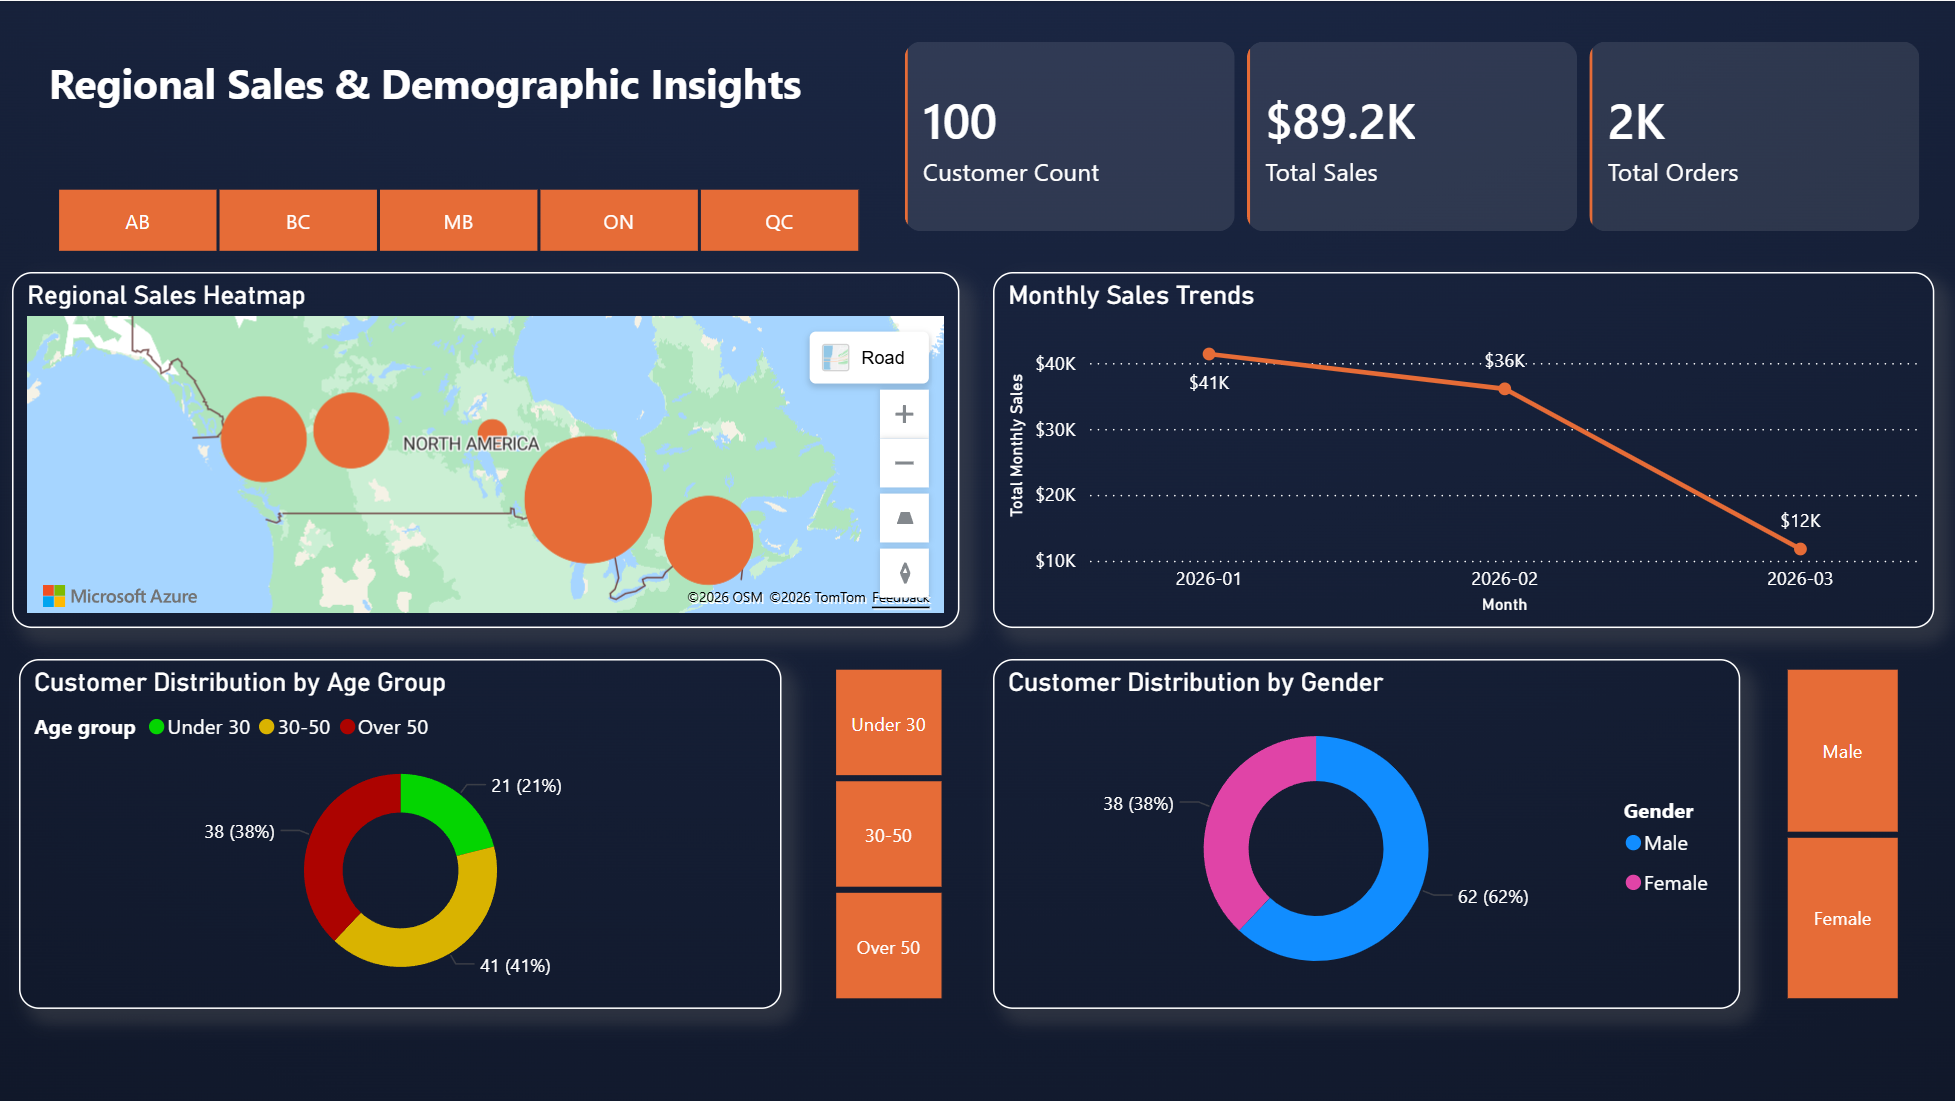

This screenshot's page, from the dashboard's own definition file:
{"tool":"powerbi","page":{"name":"Page 1","canvas":[1280,720],"ordinal":0},"visuals":[{"type":"lineChart","title":"Monthly Sales Trends","fields":{"Category":["vw_monthly_sales_trend.sales_month"],"Y":["Sum(vw_monthly_sales_trend.monthly_sales)"]},"box":[650.5,177.3,615.8,233],"z":0},{"type":"donutChart","title":"Customer Distribution by Age Group","fields":{"Category":["vw_customer_demographics.age_group"],"Y":["CountNonNull(vw_customer_demographics.customer_id)"]},"box":[13.1,430.6,499.3,229],"z":1000},{"type":"donutChart","title":"Customer Distribution by Gender","fields":{"Y":["CountNonNull(vw_customer_demographics.customer_id)"],"Category":["vw_customer_demographics.gender"]},"box":[650.5,430.6,488.8,229],"z":2000},{"type":"slicer","fields":{"Values":["vw_customer_demographics.gender"]},"box":[1144.5,430.6,121.7,229],"z":3000},{"type":"slicer","fields":{"Values":["vw_customer_demographics.age_group"]},"box":[526.8,430.6,108.6,229],"z":4000},{"type":"azureMap","title":"Regional Sales Heatmap","fields":{"Category":["vw_sales_by_region.Location"],"Size":["Sum(vw_sales_by_region.total_sales)"]},"box":[13.1,177.3,615.8,233],"z":5000},{"type":"cardVisual","fields":{"Data":["CountNonNull(vw_customer_demographics.customer_id)","Sum(vw_sales_by_region.total_sales)","CountNonNull(Transactions.txn_id)"]},"box":[585.7,19.6,680.6,138.1],"z":6000},{"type":"textbox","box":[27.5,30.1,543.8,49.7],"z":6001},{"type":"slicer","fields":{"Values":["vw_sales_by_region.region"]},"box":[18.3,116.5,562.8,54.3],"z":6002}]}

Visuals, with their boxes in screenshot pixels (x1, y1, x2, y2), scaled from the page's 1280x720 canvas onto the 1955x1101 screenshot:
"Monthly Sales Trends" lineChart: (x1=994, y1=271, x2=1934, y2=627)
"Customer Distribution by Age Group" donutChart: (x1=20, y1=658, x2=783, y2=1009)
"Customer Distribution by Gender" donutChart: (x1=994, y1=658, x2=1740, y2=1009)
slicer - vw_customer_demographics.gender: (x1=1748, y1=658, x2=1934, y2=1009)
slicer - vw_customer_demographics.age_group: (x1=805, y1=658, x2=970, y2=1009)
"Regional Sales Heatmap" azureMap: (x1=20, y1=271, x2=961, y2=627)
cardVisual - CountNonNull(vw_customer_demographics.customer_id) x Sum(vw_sales_by_region.total_sales): (x1=895, y1=30, x2=1934, y2=241)
textbox: (x1=42, y1=46, x2=873, y2=122)
slicer - vw_sales_by_region.region: (x1=28, y1=178, x2=888, y2=261)
